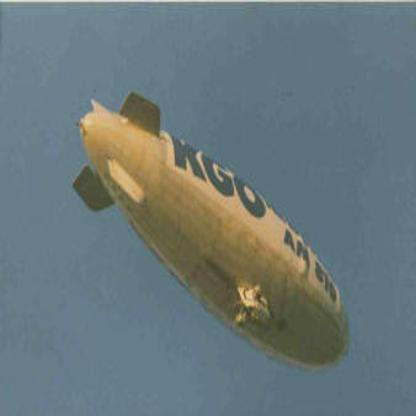Airship: (70, 93, 355, 375)
